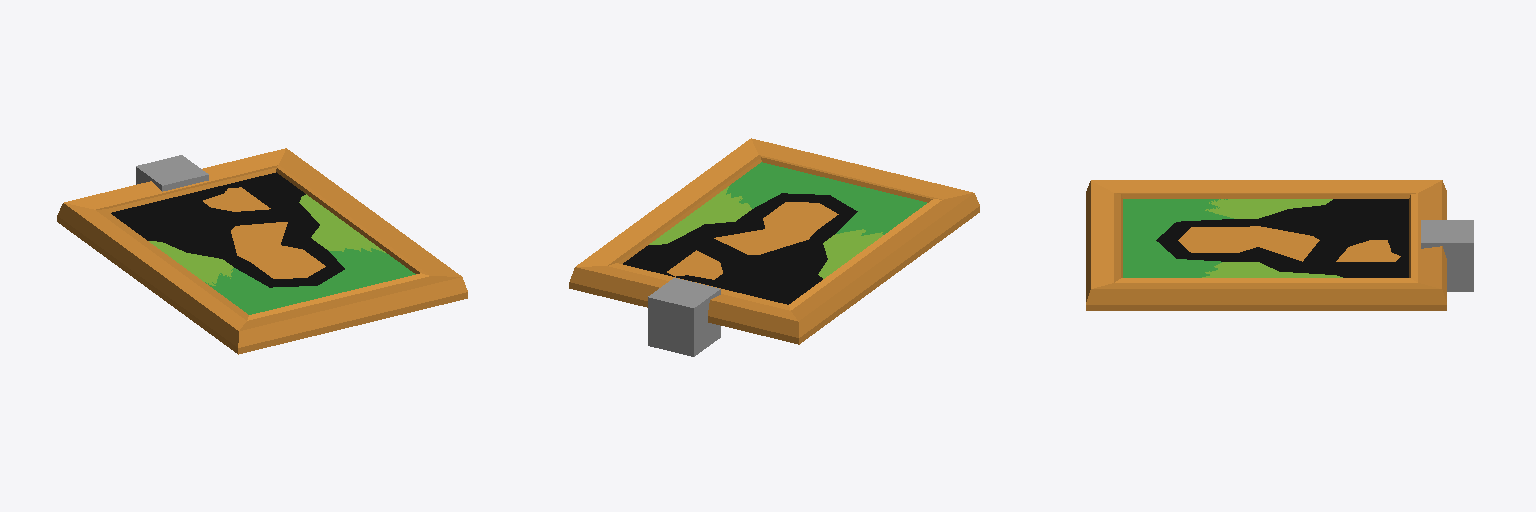
File: lisa2.obj
3 views of the same model, side by side, from view 1: azimuth 30°, elevation 25°; view 2: azimuth 150°, elevation 25°; view 3: azimuth 270°, elevation 25° (orthographic).
Parts seen in each view (by area): view 1: Wall_Art_Classical_Plane, Cube; view 2: Wall_Art_Classical_Plane, Cube; view 3: Wall_Art_Classical_Plane, Cube.
Boxes of the visible parts, box(x1,y1,x2,y2) form: Wall_Art_Classical_Plane: box(57, 148, 467, 354); Cube: box(136, 155, 208, 191); Wall_Art_Classical_Plane: box(569, 138, 979, 344); Cube: box(648, 278, 720, 356); Wall_Art_Classical_Plane: box(1086, 180, 1446, 310); Cube: box(1421, 220, 1473, 291).
Size of the model in its own units: 9.89 by 2 by 14.49.